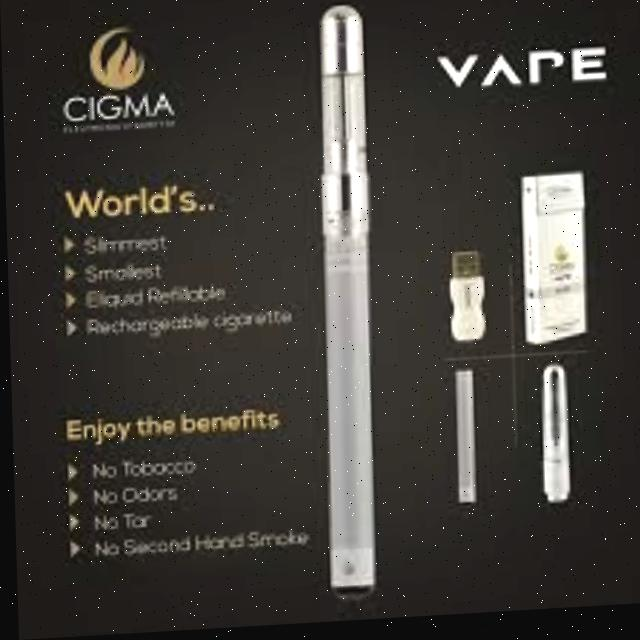vape: (313, 6, 378, 600)
